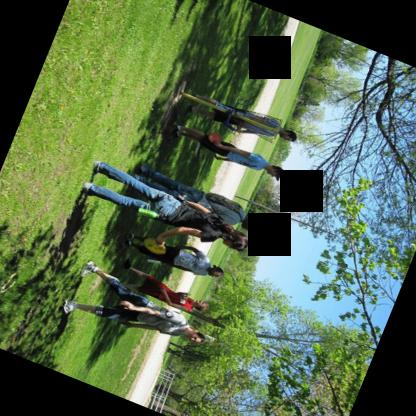backpack: (204, 192, 239, 213)
